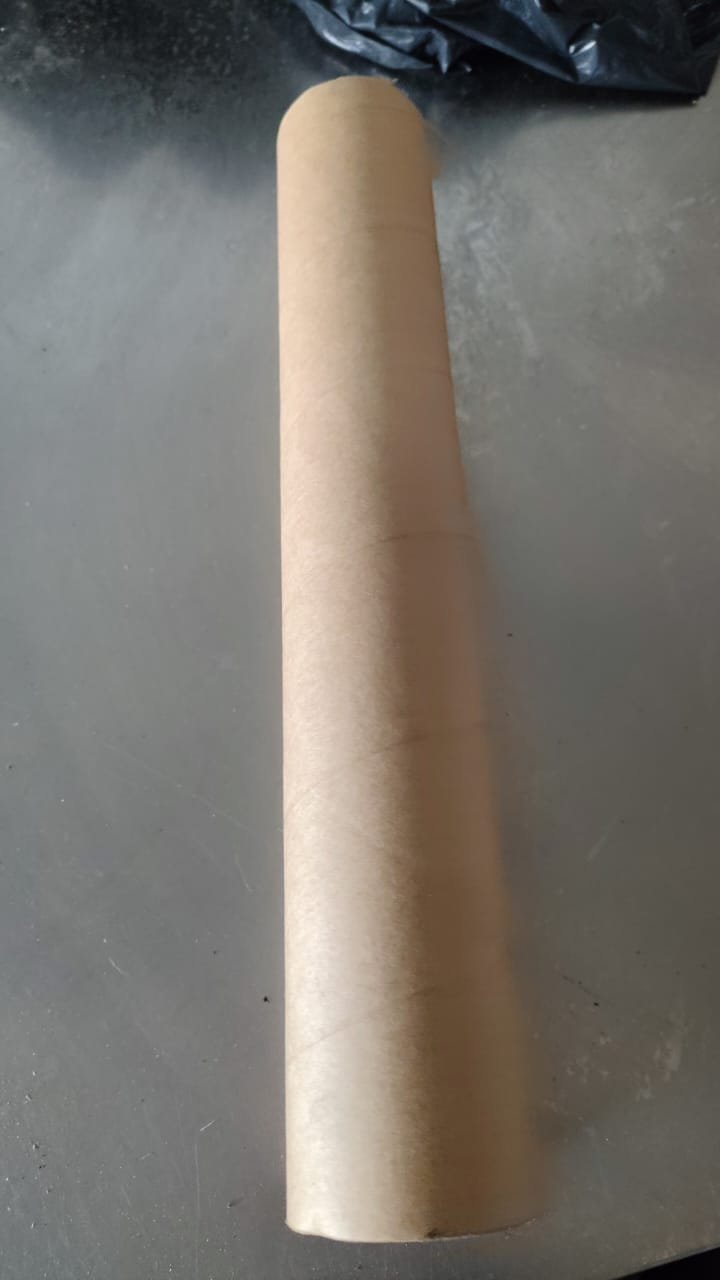Carton: (277, 75, 548, 1243)
